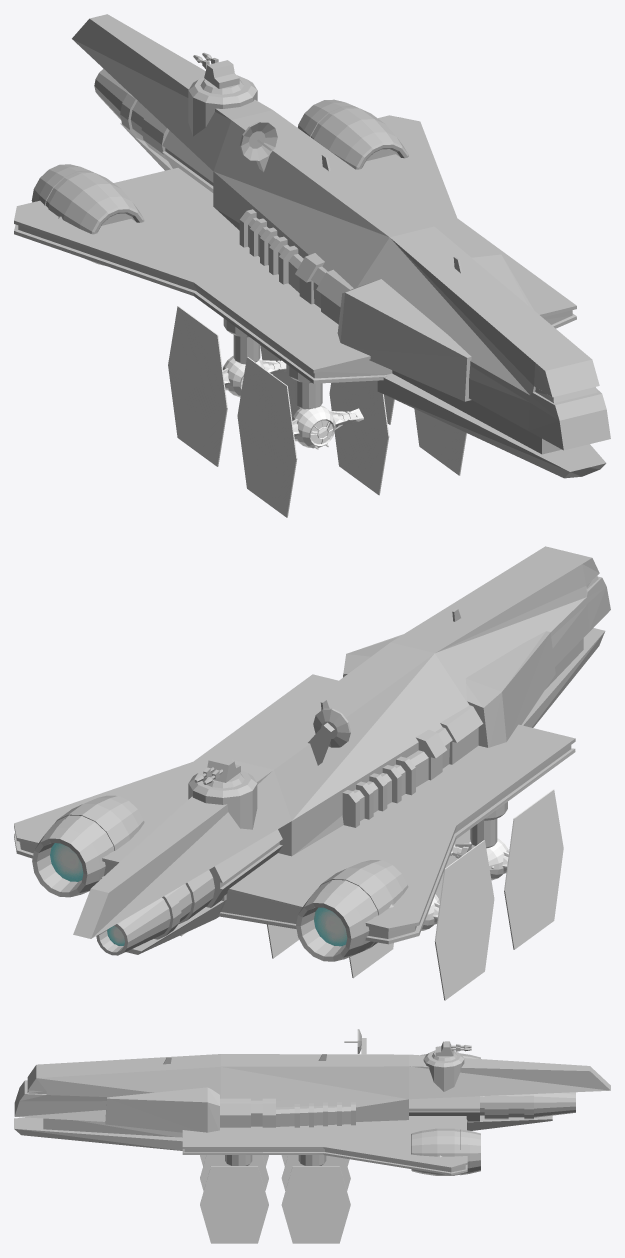
The model's file is Gozanti_Empire_02.obj.
3 views of the same model, one above another, from view 1: azimuth 30°, elevation 25°; view 2: azimuth 150°, elevation 25°; view 3: azimuth 270°, elevation 25° (orthographic). The views are drawn at different scales.
Visible parts, largest first — view 1: Hull, TieFighter_02, TieFighter_03, TieFighter_01; view 2: Hull, TieFighter_02, TieFighter_03, Engine, TieFighter_04; view 3: Hull, TieFighter_01, TieFighter_04.
Part boxes in pixels (x1=…): Hull: x1=14, y1=14, x2=610, y2=478; TieFighter_02: x1=237, y1=357, x2=389, y2=517; TieFighter_03: x1=168, y1=306, x2=299, y2=466; TieFighter_01: x1=414, y1=409, x2=466, y2=475; Hull: x1=14, y1=546, x2=610, y2=961; TieFighter_02: x1=435, y1=789, x2=563, y2=949; TieFighter_03: x1=349, y1=840, x2=494, y2=1000; Engine: x1=50, y1=843, x2=347, y2=946; TieFighter_04: x1=180, y1=924, x2=298, y2=958; Hull: x1=14, y1=1029, x2=610, y2=1175; TieFighter_01: x1=200, y1=1155, x2=268, y2=1243; TieFighter_04: x1=281, y1=1155, x2=350, y2=1243.
Size of the model in its own units: 244 by 161 by 528.
